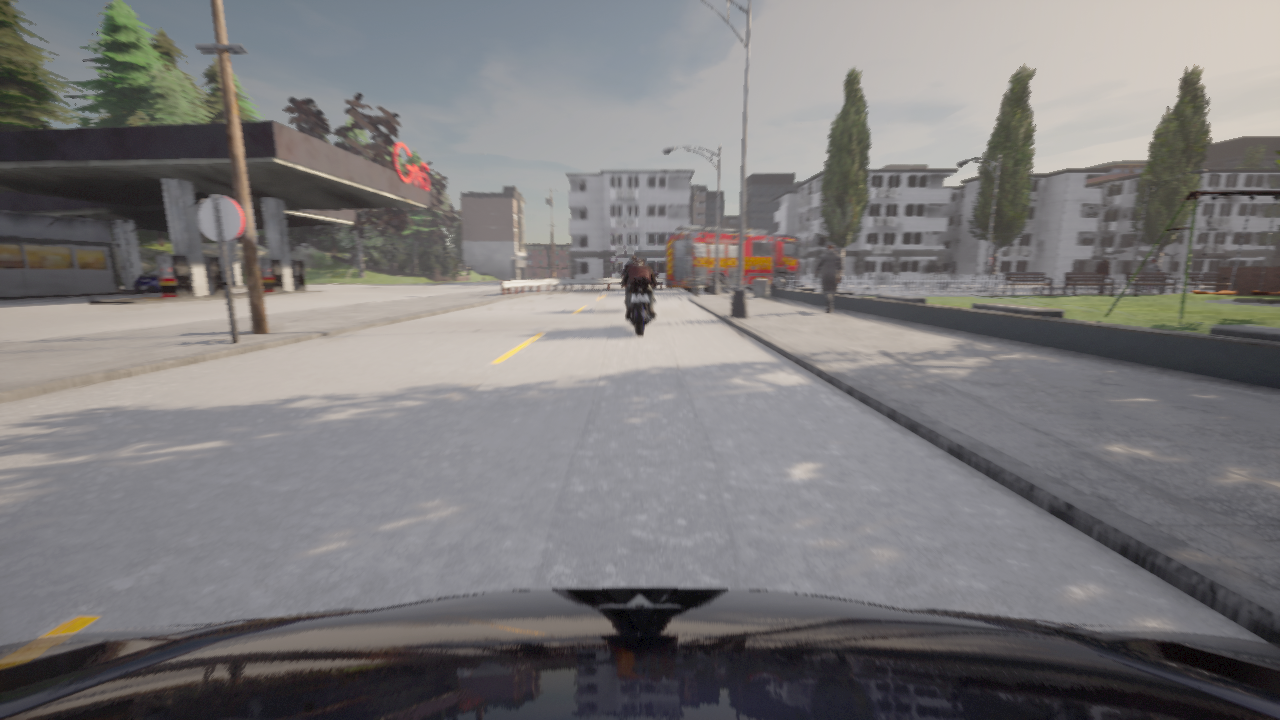cyclist: (0, 588, 1279, 719), (666, 226, 799, 293), (620, 273, 659, 336), (134, 270, 161, 295), (917, 274, 949, 289), (1140, 285, 1159, 291), (800, 277, 804, 284)
pedestrian: (813, 245, 843, 313), (1146, 259, 1160, 293), (1096, 260, 1109, 292)
